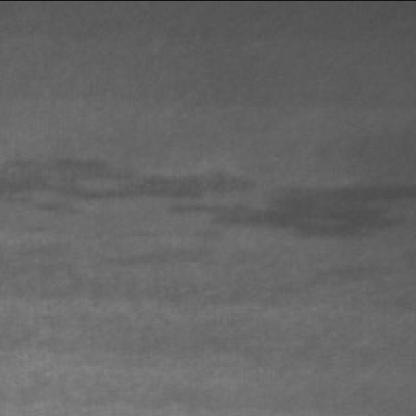inclusion: (10, 158, 416, 244)
